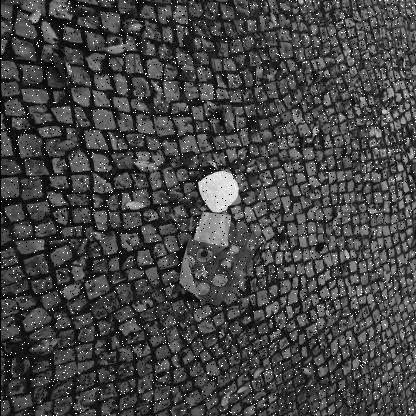metal: (196, 170, 238, 212)
paper: (178, 212, 260, 306)
